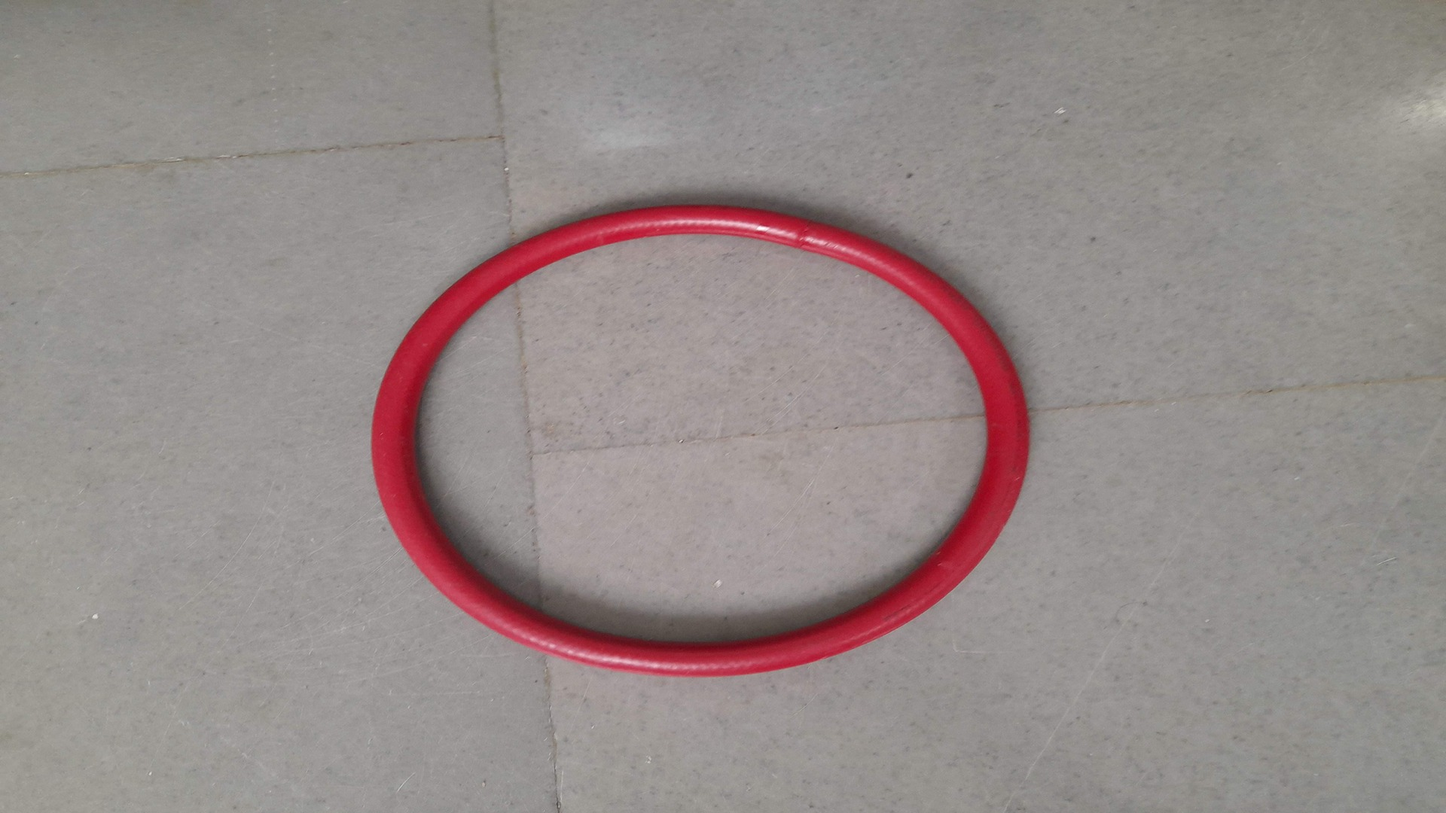Red ring: (378, 207, 1027, 675)
